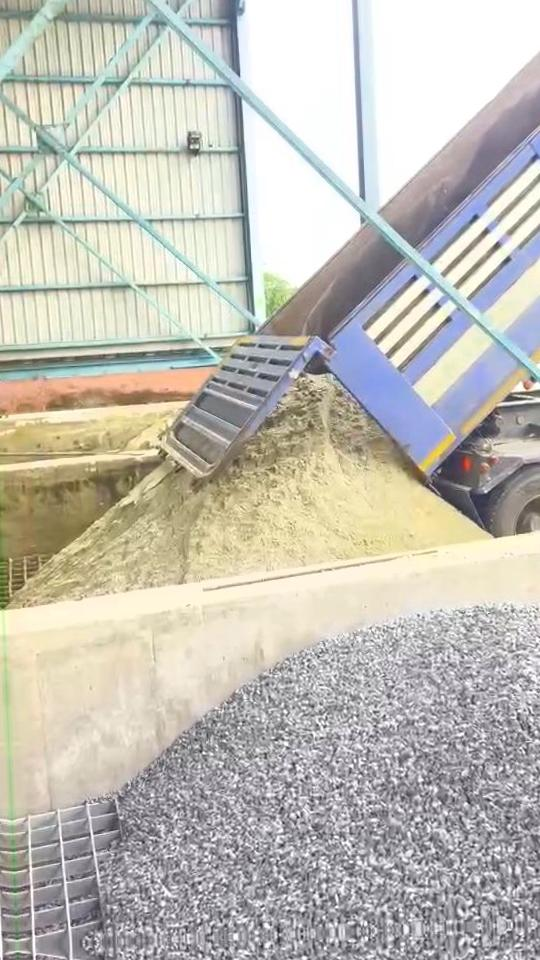gravel: (99, 606, 540, 941)
sand: (12, 377, 488, 606), (123, 410, 176, 450)
